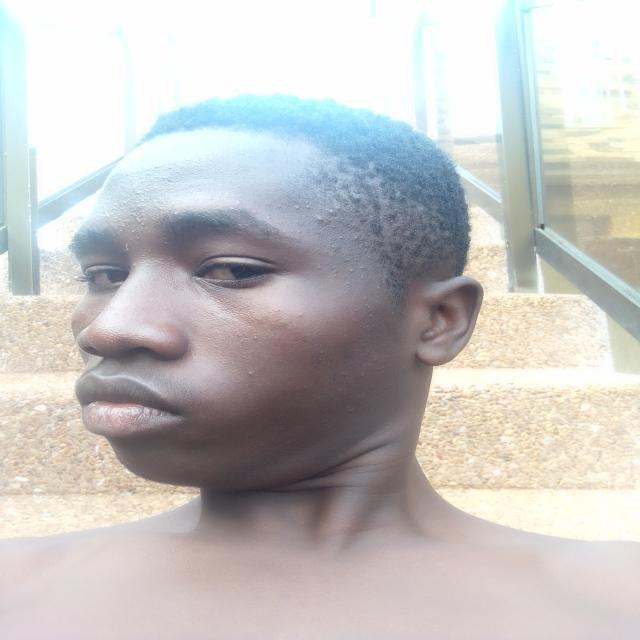acne: (111, 188, 159, 239), (323, 234, 363, 282), (298, 200, 348, 230), (116, 164, 176, 186), (358, 292, 376, 330), (244, 368, 256, 376), (298, 311, 304, 317)
